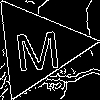M: (12, 22, 62, 72)
